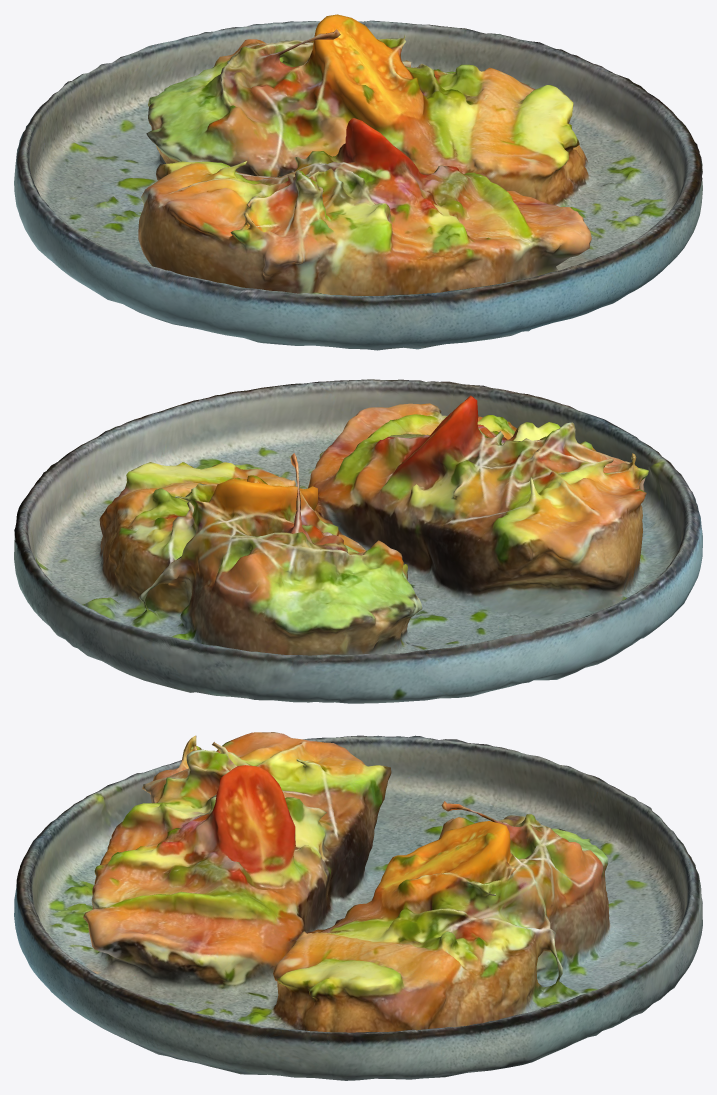
The model's file is tartine-avocat-saumon.ar.glb.
The picture shows the model from 3 angles, top to bottom: view 1: azimuth 30°, elevation 25°; view 2: azimuth 150°, elevation 25°; view 3: azimuth 270°, elevation 25°; orthographic projection.
Visible parts, largest first — view 1: ObjectCapture; view 2: ObjectCapture; view 3: ObjectCapture.
Part boxes in pixels (bbox=[...]): ObjectCapture: bbox=[14, 14, 702, 350]; ObjectCapture: bbox=[14, 379, 702, 703]; ObjectCapture: bbox=[14, 732, 702, 1080].
Bounding box in the file's own units: 0.2077 × 0.056 × 0.2071.
Materials: 1 (1 with a texture image).
